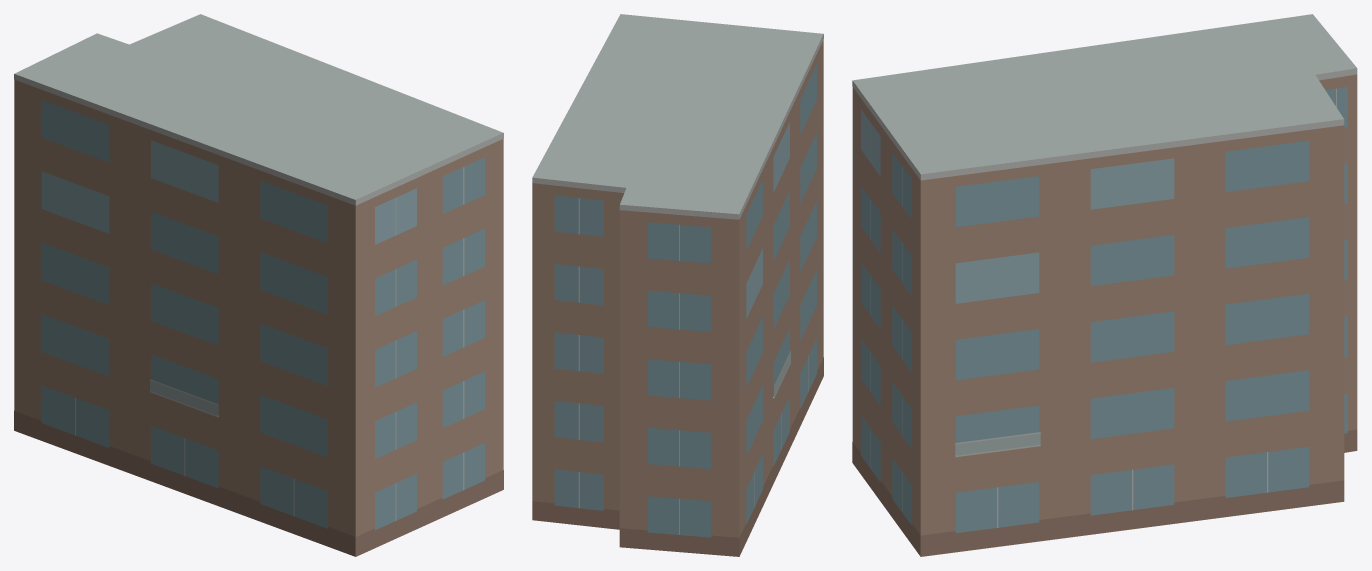
The model's file is survey-upis-32858733.glb.
The picture shows the model from 3 angles, left to right: view 1: azimuth 30°, elevation 25°; view 2: azimuth 150°, elevation 25°; view 3: azimuth 270°, elevation 25°; orthographic projection. The views are drawn at different scales.
Visible parts, largest first — view 1: survey-upis-32858733.tmp; view 2: survey-upis-32858733.tmp; view 3: survey-upis-32858733.tmp.
Boxes of the visible parts, x1=… form: survey-upis-32858733.tmp: x1=14, y1=14, x2=503, y2=556; survey-upis-32858733.tmp: x1=532, y1=14, x2=823, y2=556; survey-upis-32858733.tmp: x1=852, y1=14, x2=1357, y2=556.
Size of the model in its own units: 13.73 by 15.25 by 18.26.
